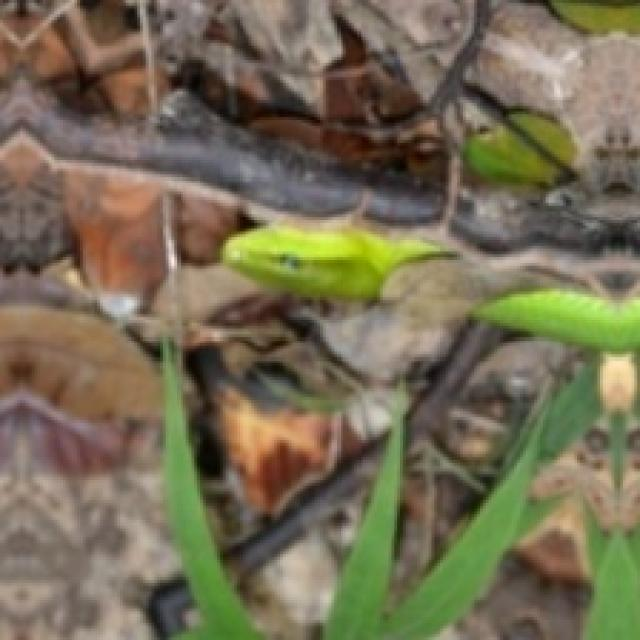red-tailed green ratsnake: (224, 226, 455, 299), (474, 289, 640, 352)
